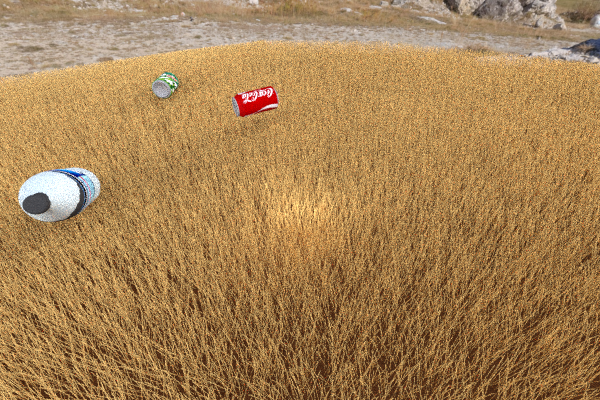bottle: (18, 167, 100, 221)
can: (231, 85, 278, 117), (151, 72, 178, 98)
